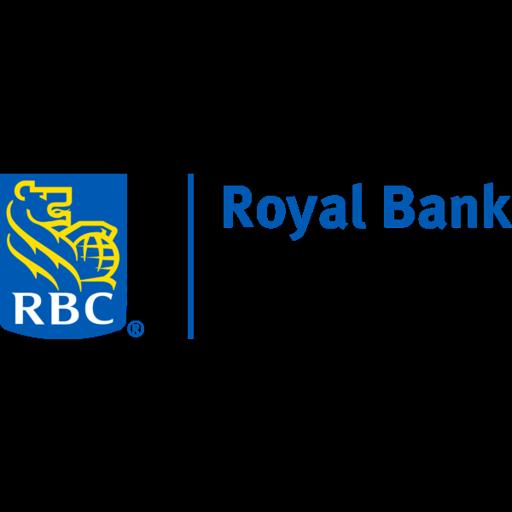RBC Royal Bank: (0, 172, 512, 340)
